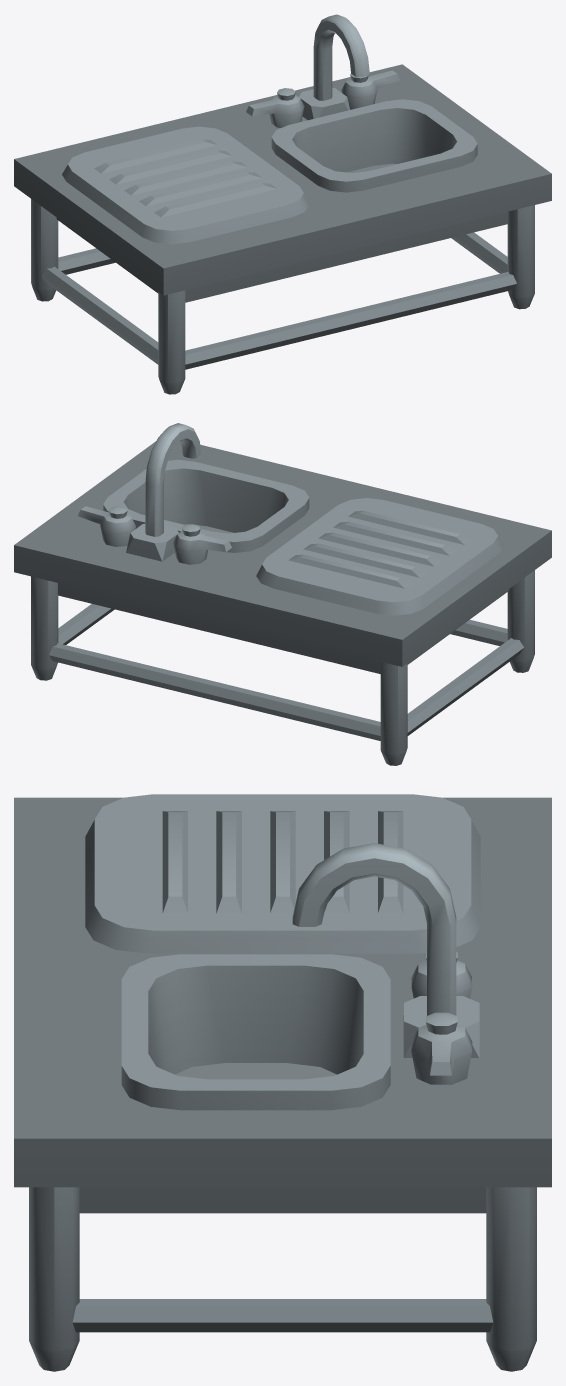
File: kay-kitchentable_sink_large.glb
3 renders of one model, top to bottom at view 1: azimuth 30°, elevation 25°; view 2: azimuth 150°, elevation 25°; view 3: azimuth 270°, elevation 25°, orthographic. The views are drawn at different scales.
Visible parts, largest first — view 1: kitchentable_sink_large; view 2: kitchentable_sink_large; view 3: kitchentable_sink_large.
Part boxes in pixels (x1=…): kitchentable_sink_large: x1=14, y1=14, x2=551, y2=394; kitchentable_sink_large: x1=14, y1=423, x2=551, y2=765; kitchentable_sink_large: x1=14, y1=794, x2=551, y2=1371.
Bounding box in the file's own units: 1.8 × 1.08 × 1.2.
Materials: 1 (1 with a texture image).
